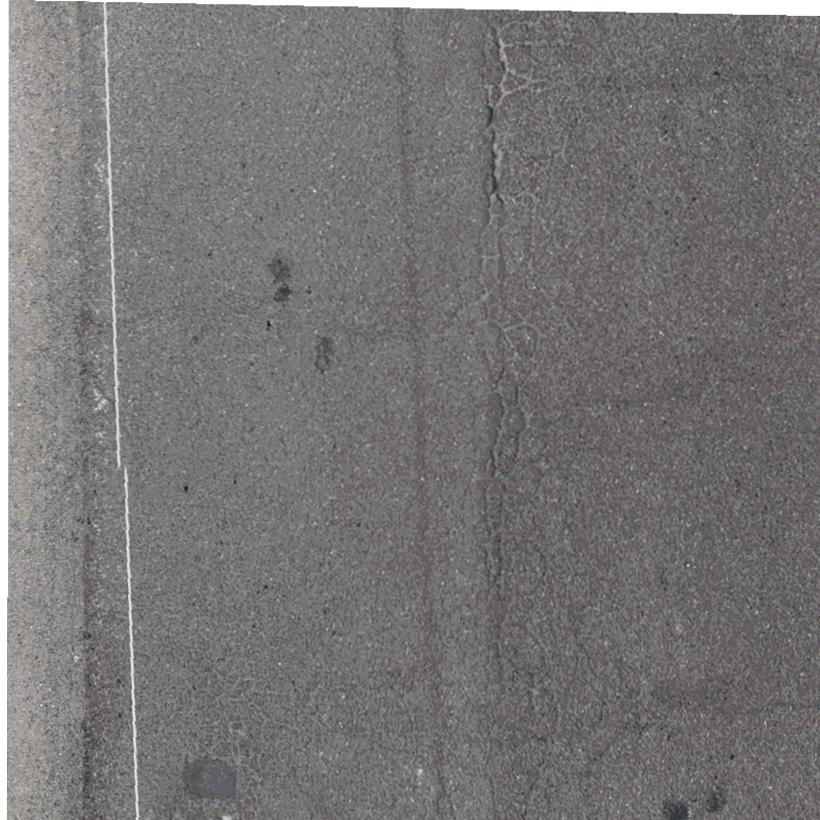PIEL DE COCODRILO: (411, 8, 674, 819)
